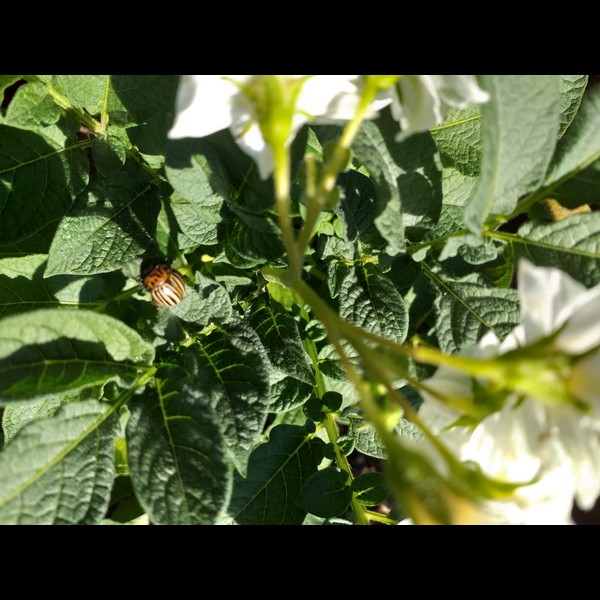hrosc: (142, 261, 189, 310)
